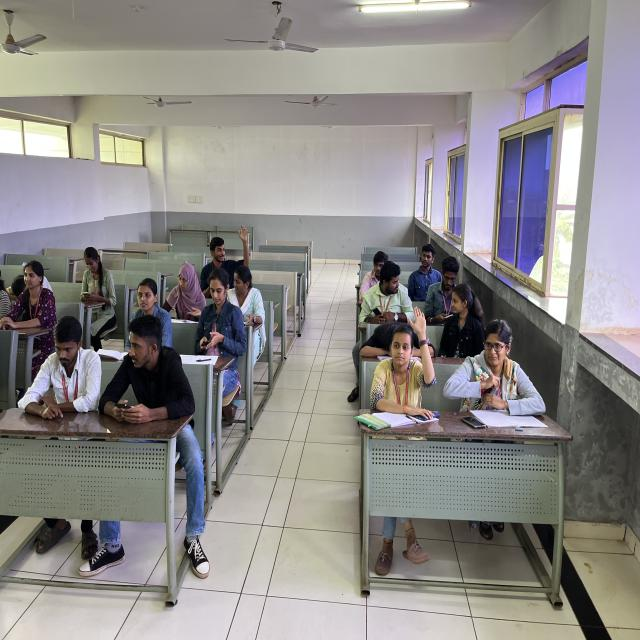Hand Rising: (370, 304, 450, 432), (194, 209, 254, 277)
Sleeping: (7, 259, 44, 295)
Using Phone: (98, 308, 199, 431), (66, 233, 124, 315), (194, 270, 249, 356), (364, 254, 420, 322), (425, 256, 463, 324)
Writing: (162, 254, 205, 321)
